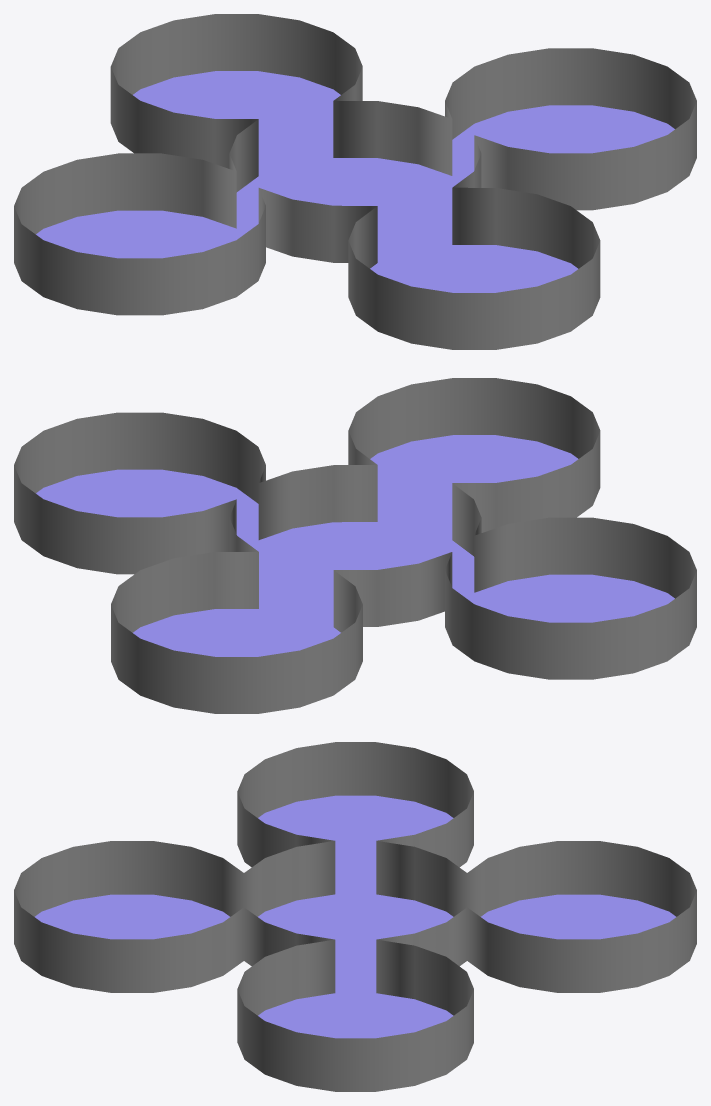
File: Blokout.FBX
3 views of the same model, one above another, from view 1: azimuth 30°, elevation 25°; view 2: azimuth 150°, elevation 25°; view 3: azimuth 270°, elevation 25° (orthographic). The views are drawn at different scales.
Visible parts, largest first — view 1: Cylinder001; view 2: Cylinder001; view 3: Cylinder001.
Boxes of the visible parts, x1,y1,x2,y2 form: Cylinder001: [14, 14, 696, 349]; Cylinder001: [14, 378, 696, 713]; Cylinder001: [14, 742, 696, 1091].
Size of the model in its own units: 5919 by 500 by 5771.
